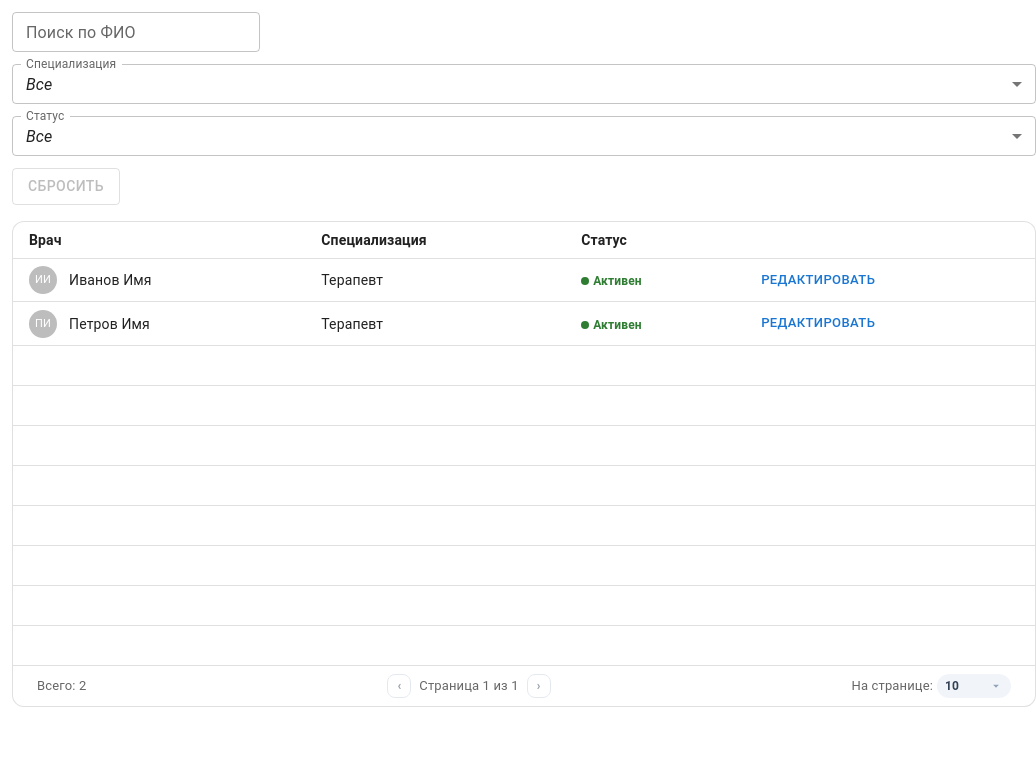
DoctorsTable (3.1: фильтры «специализация/статус» из макета) › фильтр специализации уходит в запрос BFF (specId)
Press the mouse on the dropdown named "Специализация": (39, 84) [26, 74, 52, 94]
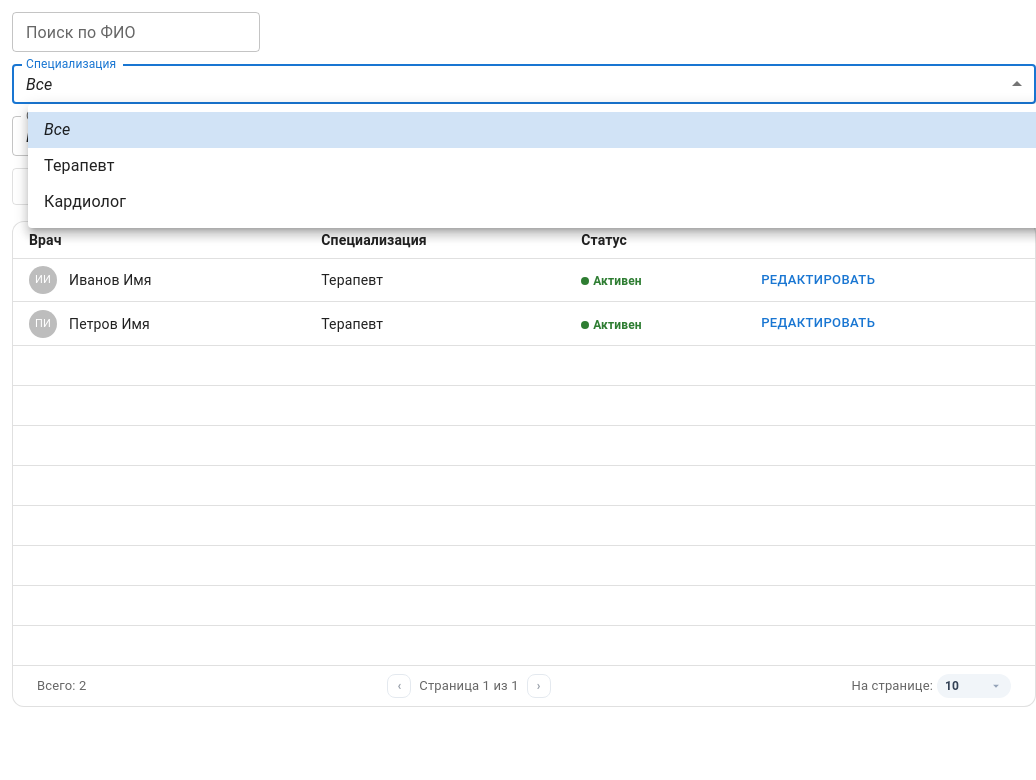
Click the option "Кардиолог": (85, 202) [44, 192, 126, 211]
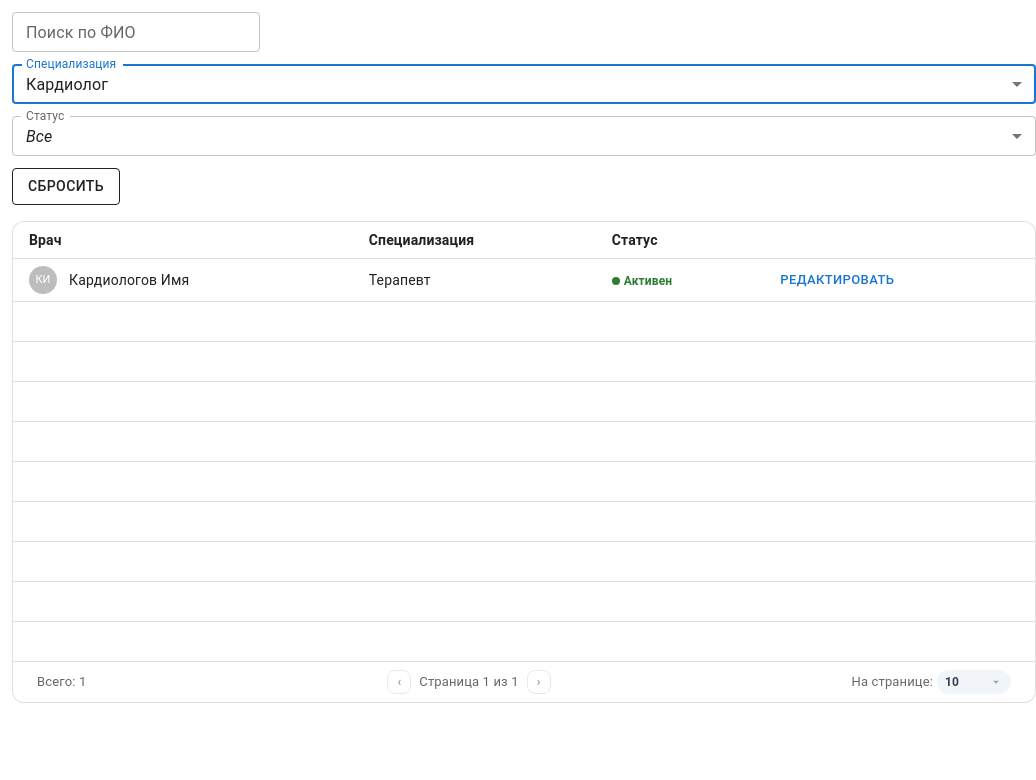
Result: the text "Кардиологов Имя" is shown at [69, 270, 189, 290]
